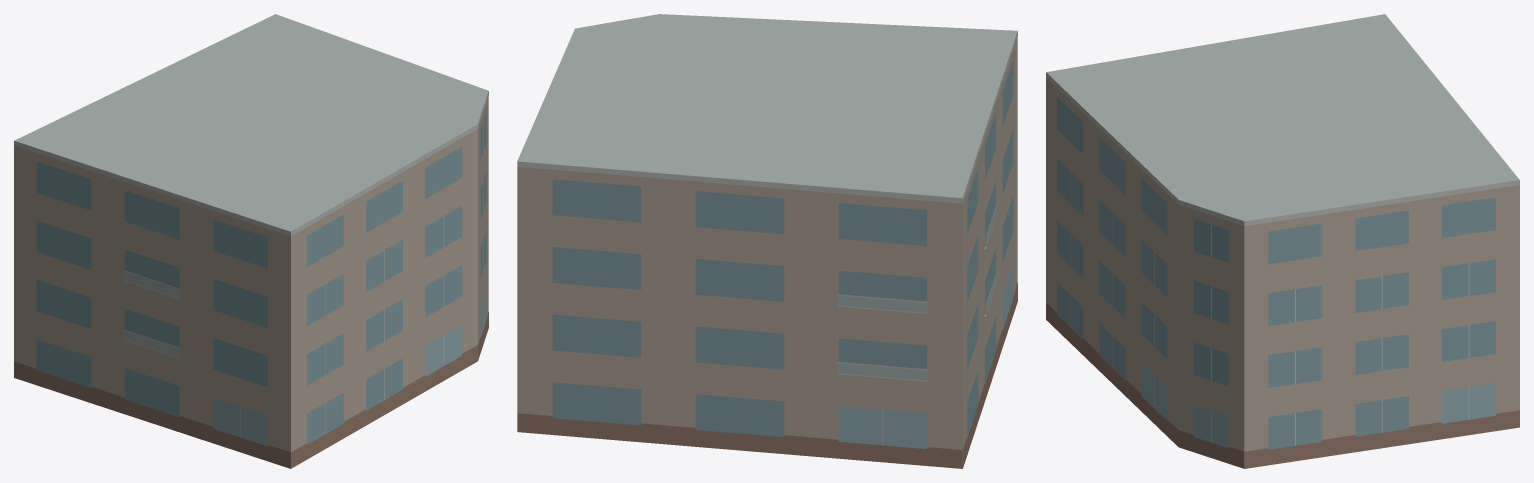
The model's file is residential-c9e22d17-fd34-4861-878f-8bb6bb22db60.glb.
The picture shows the model from 3 angles, left to right: view 1: azimuth 30°, elevation 25°; view 2: azimuth 150°, elevation 25°; view 3: azimuth 270°, elevation 25°; orthographic projection. The views are drawn at different scales.
Visible parts, largest first — view 1: residential-c9e22d17-fd34-4861-878f-8bb6bb22db60.tmp; view 2: residential-c9e22d17-fd34-4861-878f-8bb6bb22db60.tmp; view 3: residential-c9e22d17-fd34-4861-878f-8bb6bb22db60.tmp.
Boxes of the visible parts, bbox=[...] form: residential-c9e22d17-fd34-4861-878f-8bb6bb22db60.tmp: bbox=[14, 14, 488, 468]; residential-c9e22d17-fd34-4861-878f-8bb6bb22db60.tmp: bbox=[517, 14, 1017, 468]; residential-c9e22d17-fd34-4861-878f-8bb6bb22db60.tmp: bbox=[1046, 14, 1519, 468].
Bounding box in the file's own units: 21.93 × 12.2 × 21.17.
